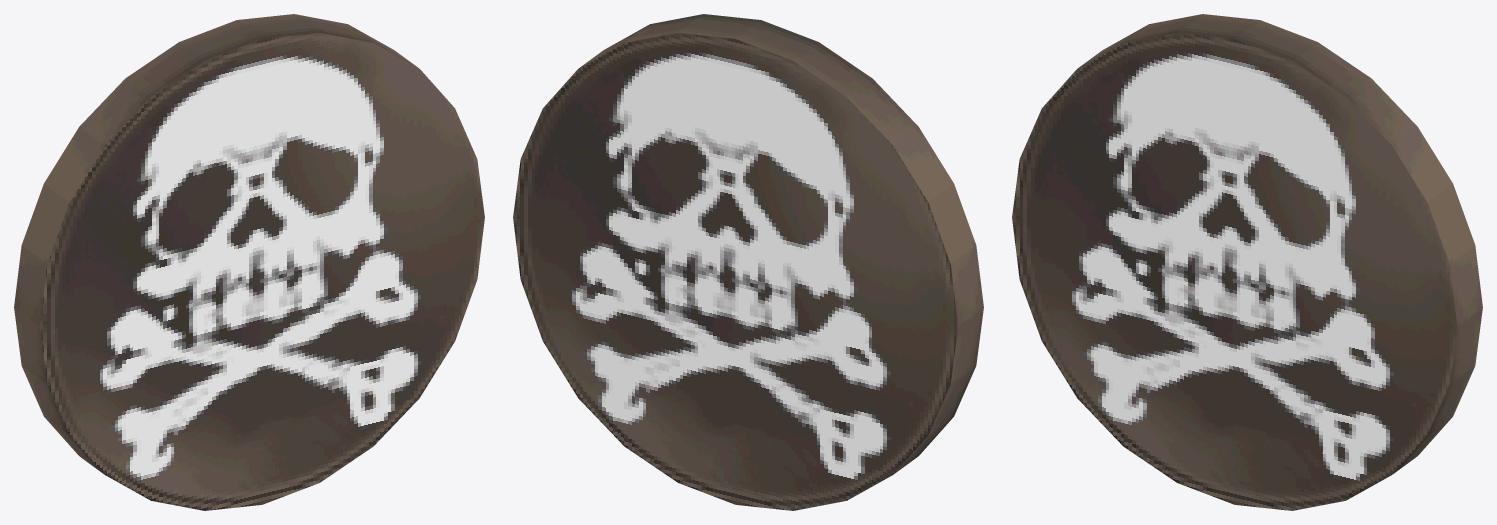
The model's file is ps2_save-icons_hppsk9cptharlock.glb.
The picture shows the model from 3 angles, left to right: view 1: azimuth 30°, elevation 25°; view 2: azimuth 150°, elevation 25°; view 3: azimuth 330°, elevation 25°; orthographic projection.
Parts seen in each view (by area): view 1: CH.ico; view 2: CH.ico; view 3: CH.ico.
Part boxes in pixels (x1,y1,x2,y2): CH.ico: (14, 14, 484, 510); CH.ico: (513, 14, 983, 510); CH.ico: (1012, 14, 1482, 510).
Size of the model in its own units: 3 by 3 by 0.2998.
1 material, 1 textured.
